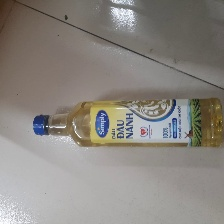Simply: (30, 97, 224, 150)
